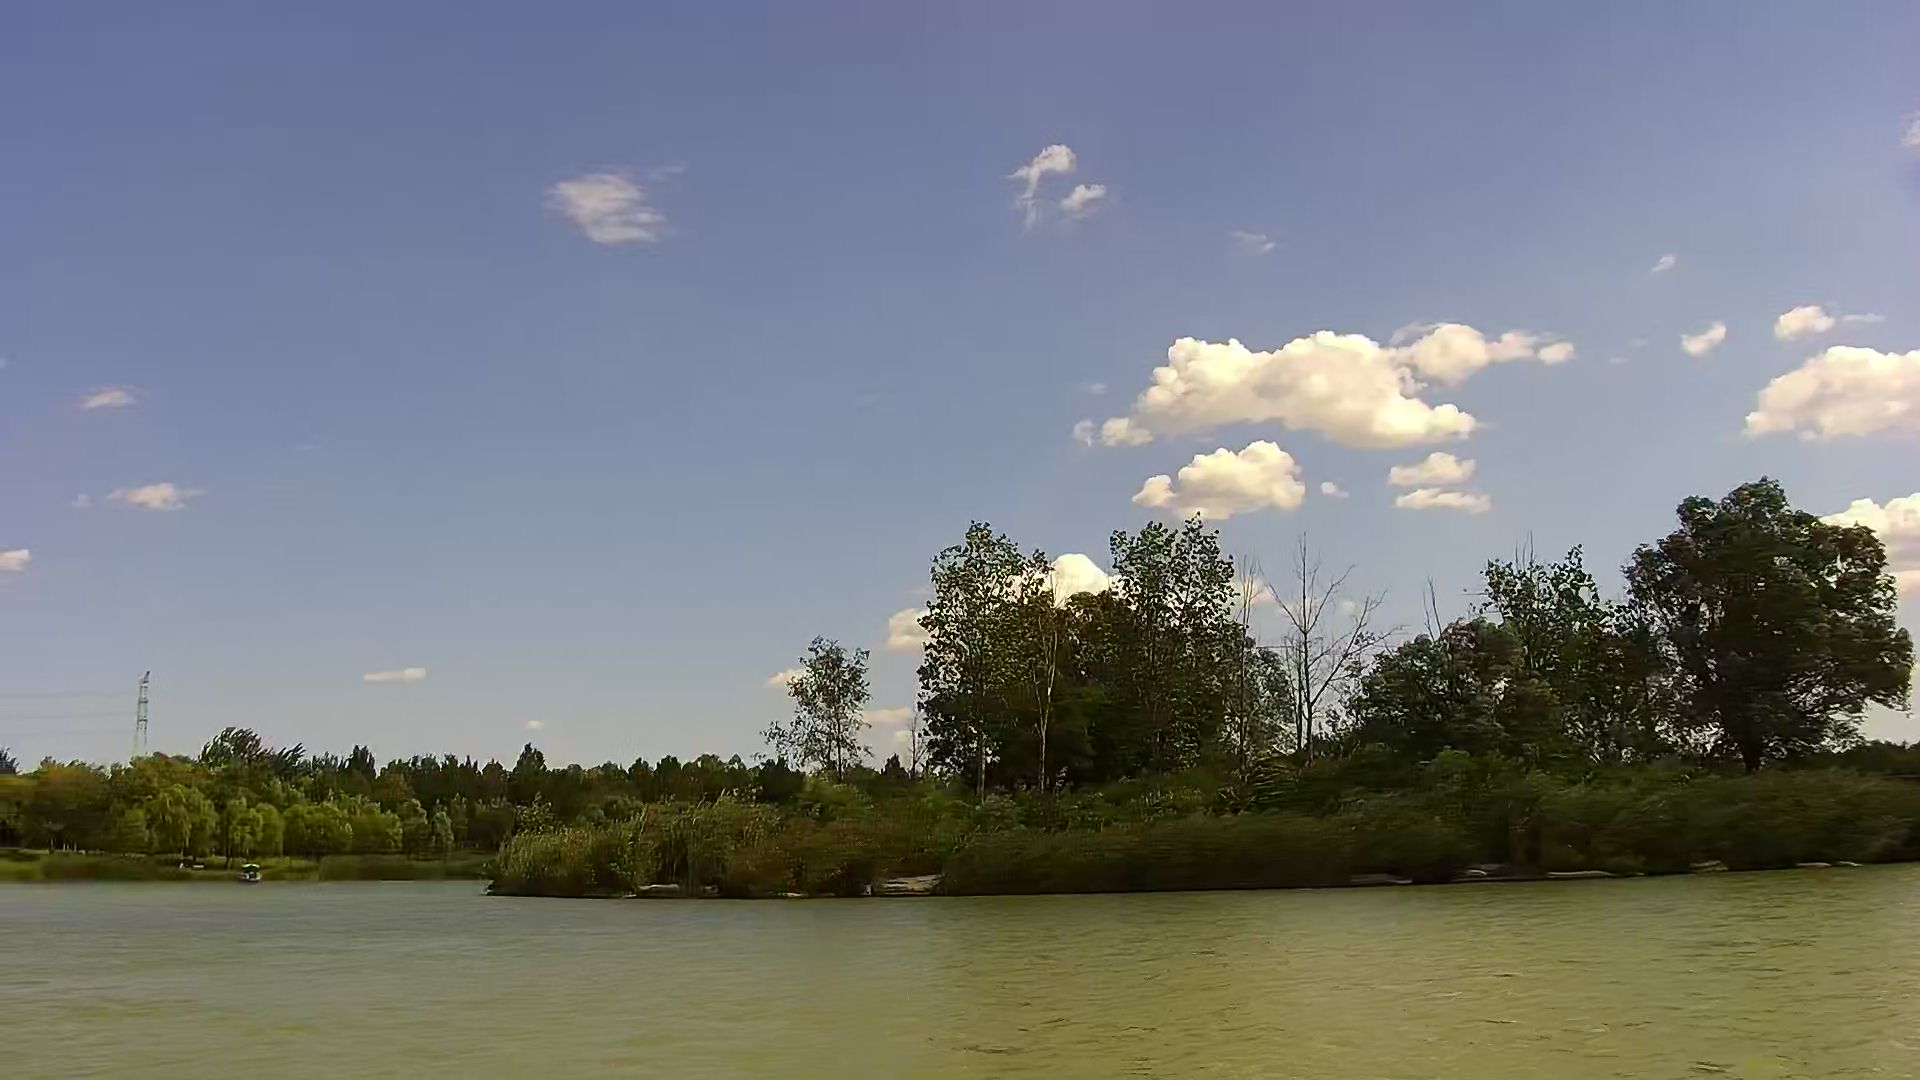rock: (870, 872, 942, 895), (633, 880, 698, 895)
